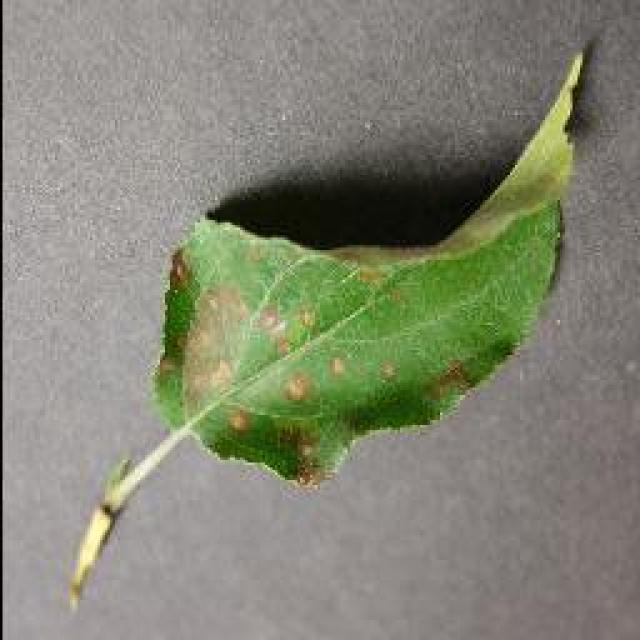Apple___Cedar_apple_rust: (143, 46, 589, 495)
